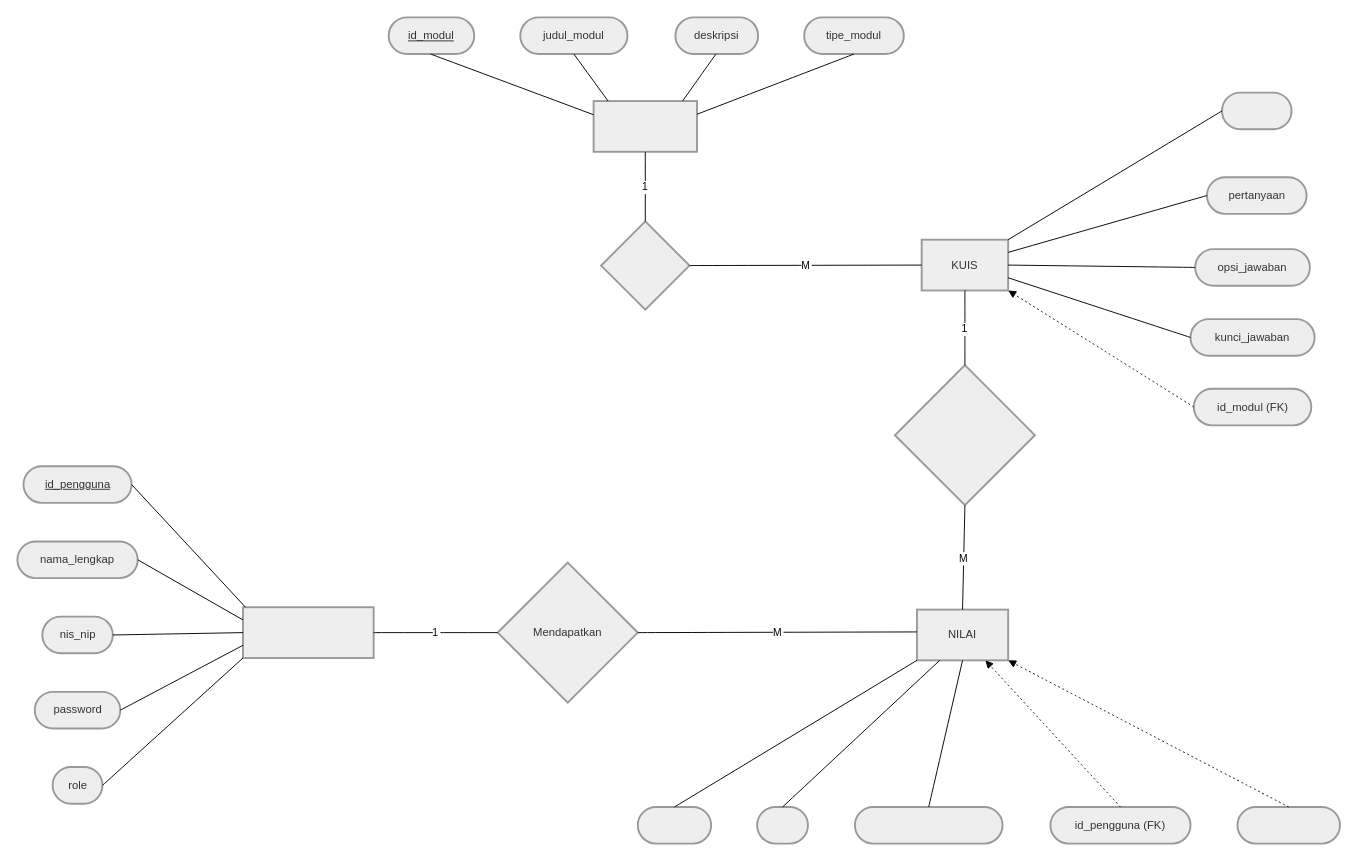
Some shapes in this 1356 by 860 pixel diagram are drawn without their labels. Each missing label, with the box of its shape:
Berisi: (600, 220, 690, 310)
id_kuis: (1221, 91, 1292, 130)
id_kuis (FK): (1236, 806, 1340, 844)
id_nilai: (636, 806, 712, 844)
Menghasilkan: (893, 364, 1035, 506)
MODUL: (592, 100, 697, 152)
PENGGUNA: (242, 606, 374, 658)
skor: (756, 806, 808, 844)
waktu_pengerjaan: (854, 806, 1003, 844)
